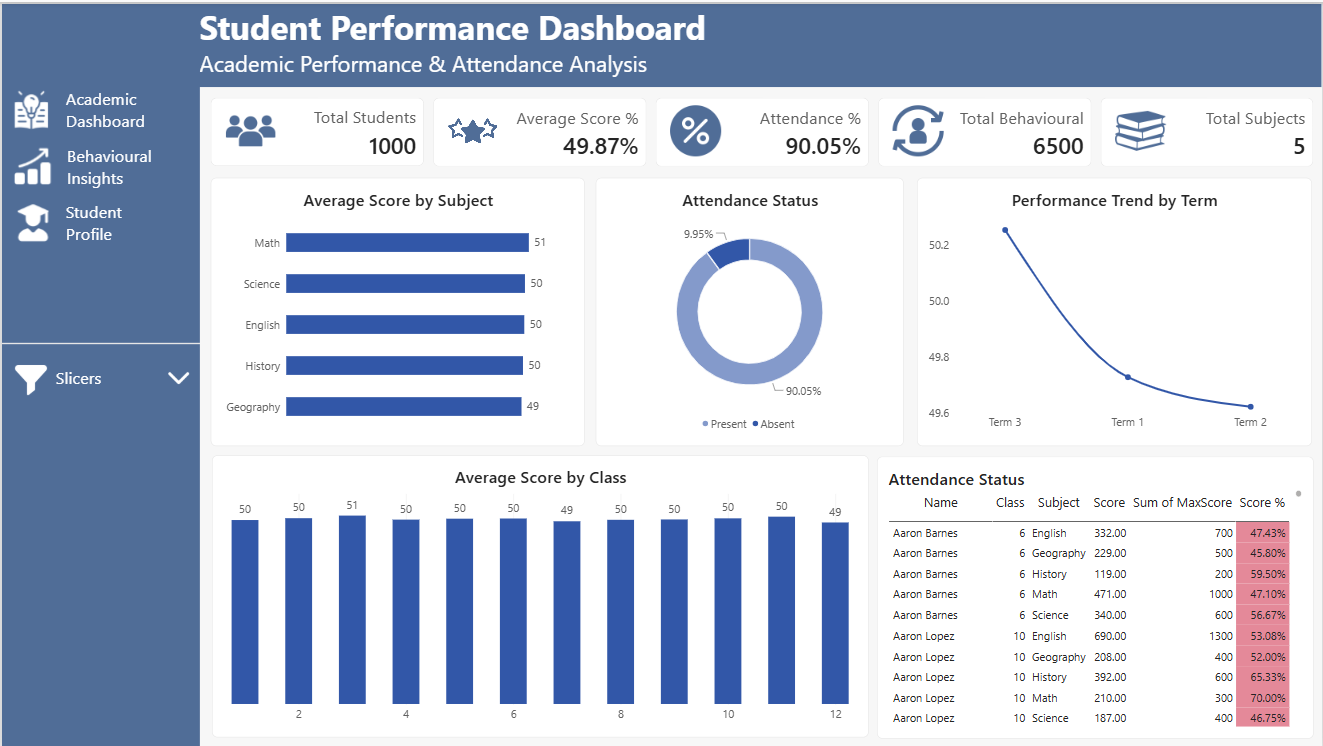

This screenshot's page, from the dashboard's own definition file:
{"tool":"powerbi","page":{"name":"Academic Dashboard","canvas":[1920,1080],"ordinal":0},"visuals":[{"type":"group","id":"g1","title":"Header","box":[0,0,1919.6,121.2],"z":0},{"type":"shape","box":[0,0,287.8,1079.9],"z":0,"group":"g7"},{"type":"shape","box":[0,0,1919.6,121.2],"z":0,"group":"g1"},{"type":"group","id":"g2","title":"Page 1 Nav","box":[13.3,121.7,260,65.3],"z":0,"group":"g14"},{"type":"textbox","box":[93,122,180,65],"z":0,"group":"g2"},{"type":"cardVisual","fields":{"Data":["_Measure.Behavior Count"]},"box":[1273.6,135.7,310,100],"z":0,"group":"g10"},{"type":"cardVisual","fields":{"Data":["_Measure.Total Subjects"]},"box":[1597.2,135.7,309.7,100],"z":0,"group":"g12"},{"type":"cardVisual","fields":{"Data":["_Measure.Total Students"]},"box":[303,136.3,310,100],"z":0,"group":"g3"},{"type":"group","id":"g3","title":"Total Student Card","box":[303,136.3,310,100],"z":0,"group":"g4"},{"type":"cardVisual","fields":{"Data":["_Measure.Average Score %"]},"box":[626.5,136.3,310,100],"z":0,"group":"g5"},{"type":"cardVisual","fields":{"Data":["_Measure.Attendance %"]},"box":[950.1,136.3,310,100],"z":0,"group":"g8"},{"type":"textbox","box":[93.7,204.3,180,65],"z":0,"group":"g6"},{"type":"barChart","title":"Average Score by Subject","fields":{"Category":["Scores.Subject"],"Y":["_Measure.Average Score"]},"box":[304,252,544,390],"z":0,"group":"g11"},{"type":"textbox","box":[92.7,285.3,180,65],"z":0,"group":"g9"},{"type":"image","box":[14,518,55,55],"z":0,"group":"g13"},{"type":"textbox","box":[287.8,0,753.1,121.2],"z":1000,"group":"g1"},{"type":"actionButton","box":[13.3,121.7,260,65],"z":1000,"group":"g2"},{"type":"group","id":"g4","title":"KPIs","box":[303,135.7,1604.2,100.6],"z":1000},{"type":"group","id":"g5","title":"Total Student Card","box":[626.5,136.3,310,100],"z":1000,"group":"g4"},{"type":"image","box":[1293.5,146.3,75.5,74.5],"z":1000,"group":"g10"},{"type":"image","box":[1617.1,146.3,75.4,74.5],"z":1000,"group":"g12"},{"type":"image","box":[322.9,146.9,75.5,74.5],"z":1000,"group":"g3"},{"type":"image","box":[646.4,146.9,75.5,74.5],"z":1000,"group":"g5"},{"type":"image","box":[970,146.9,75.5,74.5],"z":1000,"group":"g8"},{"type":"group","id":"g6","title":"Page 2 Nav","box":[14,204,260,65],"z":1000,"group":"g14"},{"type":"actionButton","box":[14,204,260,65],"z":1000,"group":"g6"},{"type":"actionButton","box":[13,285,260,65],"z":1000,"group":"g9"},{"type":"shape","title":"Devider","box":[0,482,288,24],"z":1000,"group":"g7"},{"type":"textbox","box":[78,527,75,37],"z":1000,"group":"g13"},{"type":"clusteredColumnChart","fields":{"Category":["Students.Class"],"Y":["_Measure.Average Score"]},"box":[305,655,955,410],"z":1000,"group":"g11"},{"type":"group","id":"g7","title":"Side Pannel","box":[0,0,288,1079.9],"z":2000},{"type":"group","id":"g8","title":"Total Student Card","box":[950.1,136.3,310,100],"z":2000,"group":"g4"},{"type":"lineChart","title":"Performance Trend by Term","fields":{"Category":["Scores.Term"],"Y":["_Measure.Average Score"]},"box":[1332,252,574,390],"z":2000,"group":"g11"},{"type":"group","id":"g9","title":"Page 3 Nav","box":[13,285,260,65],"z":2000,"group":"g14"},{"type":"image","title":"Down Arrow","box":[242,529,30,30],"z":2000,"group":"g7"},{"type":"group","id":"g10","title":"Total Student Card","box":[1273.6,135.7,310,100],"z":3000,"group":"g4"},{"type":"group","id":"g11","title":"Visuals","box":[304,252,1603.5,815.5],"z":3000},{"type":"donutChart","title":"Attendance Status","fields":{"Category":["Attendance.Status"],"Y":["_Measure.Attendance Records"]},"box":[864,252,448,390],"z":3000,"group":"g11"},{"type":"group","id":"g12","title":"Total Student Card","box":[1597.2,135.7,310,100],"z":4000,"group":"g4"},{"type":"group","id":"g13","title":"Filter","box":[14,518,139,55],"z":4000,"group":"g7"},{"type":"tableEx","title":"Attendance Status","fields":{"Values":["Students.Name","Sum(Students.Class)","Scores.Subject","Sum(Scores.Score)","Sum(Scores.MaxScore)","_Measure.Score %"]},"box":[1272.5,657.5,635,410],"z":4000,"group":"g11"},{"type":"group","id":"g14","title":"Page Navigators","box":[13,121.7,261,228.3],"z":6000,"group":"g7"}]}

Visuals, with their boxes on the page's 1920x1080 design canvas (x1, y1, x2, y2). These are canvas units, not pixel positions in the 1323x746 screenshot, which may show the page scaled, cropped or inside an application window:
"Header" group: x1=0, y1=0, x2=1920, y2=121
shape: x1=0, y1=0, x2=288, y2=1080
shape: x1=0, y1=0, x2=1920, y2=121
"Page 1 Nav" group: x1=13, y1=122, x2=273, y2=187
textbox: x1=93, y1=122, x2=273, y2=187
cardVisual - _Measure.Behavior Count: x1=1274, y1=136, x2=1584, y2=236
cardVisual - _Measure.Total Subjects: x1=1597, y1=136, x2=1907, y2=236
cardVisual - _Measure.Total Students: x1=303, y1=136, x2=613, y2=236
"Total Student Card" group: x1=303, y1=136, x2=613, y2=236
cardVisual - _Measure.Average Score %: x1=626, y1=136, x2=936, y2=236
cardVisual - _Measure.Attendance %: x1=950, y1=136, x2=1260, y2=236
textbox: x1=94, y1=204, x2=274, y2=269
"Average Score by Subject" barChart: x1=304, y1=252, x2=848, y2=642
textbox: x1=93, y1=285, x2=273, y2=350
image: x1=14, y1=518, x2=69, y2=573
textbox: x1=288, y1=0, x2=1041, y2=121
actionButton: x1=13, y1=122, x2=273, y2=187
"KPIs" group: x1=303, y1=136, x2=1907, y2=236
"Total Student Card" group: x1=626, y1=136, x2=936, y2=236
image: x1=1294, y1=146, x2=1369, y2=221
image: x1=1617, y1=146, x2=1692, y2=221
image: x1=323, y1=147, x2=398, y2=221
image: x1=646, y1=147, x2=722, y2=221
image: x1=970, y1=147, x2=1046, y2=221
"Page 2 Nav" group: x1=14, y1=204, x2=274, y2=269
actionButton: x1=14, y1=204, x2=274, y2=269
actionButton: x1=13, y1=285, x2=273, y2=350
"Devider" shape: x1=0, y1=482, x2=288, y2=506
textbox: x1=78, y1=527, x2=153, y2=564
clusteredColumnChart - Students.Class x _Measure.Average Score: x1=305, y1=655, x2=1260, y2=1065
"Side Pannel" group: x1=0, y1=0, x2=288, y2=1080
"Total Student Card" group: x1=950, y1=136, x2=1260, y2=236
"Performance Trend by Term" lineChart: x1=1332, y1=252, x2=1906, y2=642
"Page 3 Nav" group: x1=13, y1=285, x2=273, y2=350
"Down Arrow" image: x1=242, y1=529, x2=272, y2=559
"Total Student Card" group: x1=1274, y1=136, x2=1584, y2=236
"Visuals" group: x1=304, y1=252, x2=1908, y2=1068
"Attendance Status" donutChart: x1=864, y1=252, x2=1312, y2=642
"Total Student Card" group: x1=1597, y1=136, x2=1907, y2=236
"Filter" group: x1=14, y1=518, x2=153, y2=573
"Attendance Status" tableEx: x1=1272, y1=658, x2=1908, y2=1068
"Page Navigators" group: x1=13, y1=122, x2=274, y2=350
